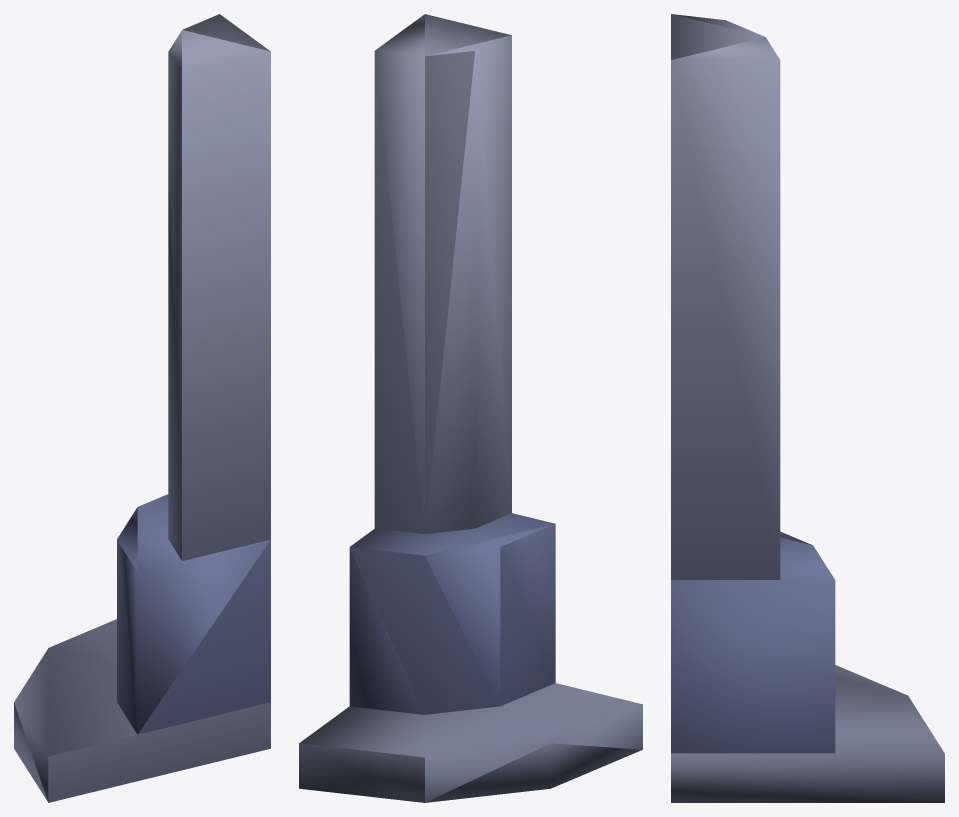
The model's file is template-wall-corner_lev2.glb.
3 views of the same model, side by side, from view 1: azimuth 30°, elevation 25°; view 2: azimuth 150°, elevation 25°; view 3: azimuth 270°, elevation 25° (orthographic). The views are drawn at different scales.
Parts seen in each view (by area): view 1: template-wall-corner_lev2; view 2: template-wall-corner_lev2; view 3: template-wall-corner_lev2.
Part boxes in pixels (<box>): template-wall-corner_lev2: <box>14,14,270,802</box>; template-wall-corner_lev2: <box>299,14,642,802</box>; template-wall-corner_lev2: <box>671,14,944,802</box>.
Bounding box in the file's own units: 1 × 3 × 1.
1 material, 1 textured.
